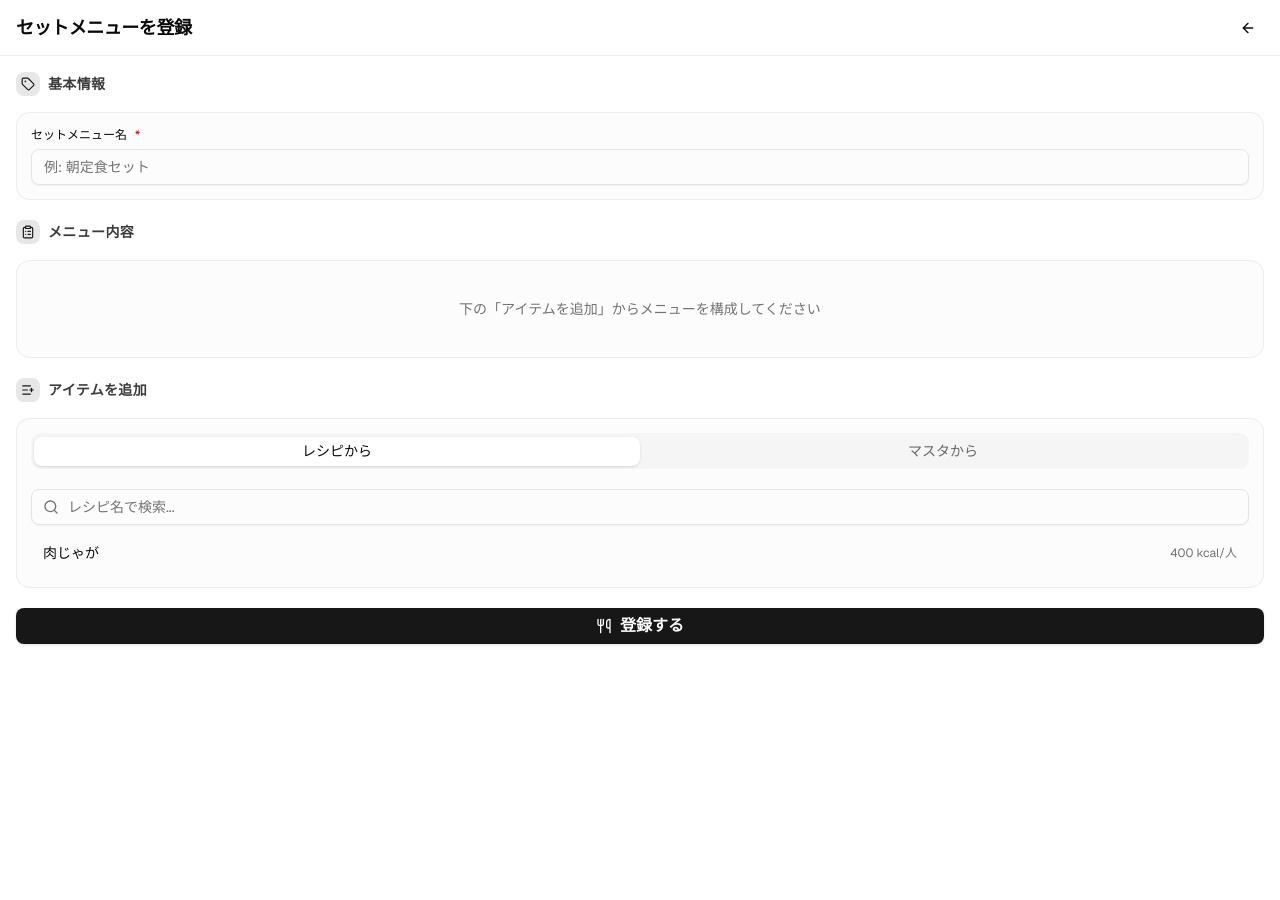
Test: SetMenuFormView (S-06a セットメニュー登録/編集) › 新規 › S-06a: 分量は 0.5 より減らせない(0.5 で「減らす」を押せない)
Step 1. Click the tab "マスタから" → (943, 451), box [640,436,1246,466]
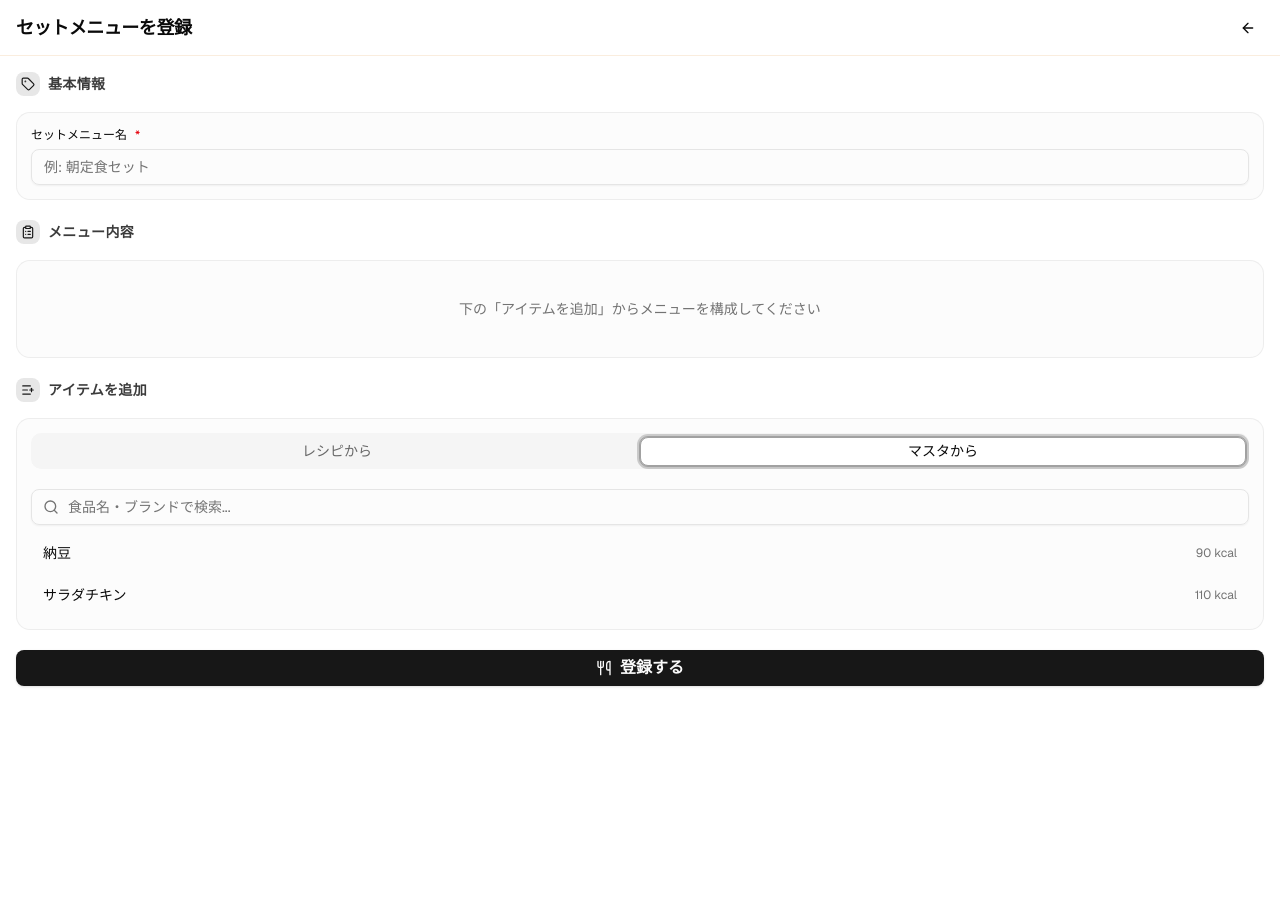
Step 2. Click the button "納豆 90 kcal" → (1217, 553), box [31,533,1249,573]
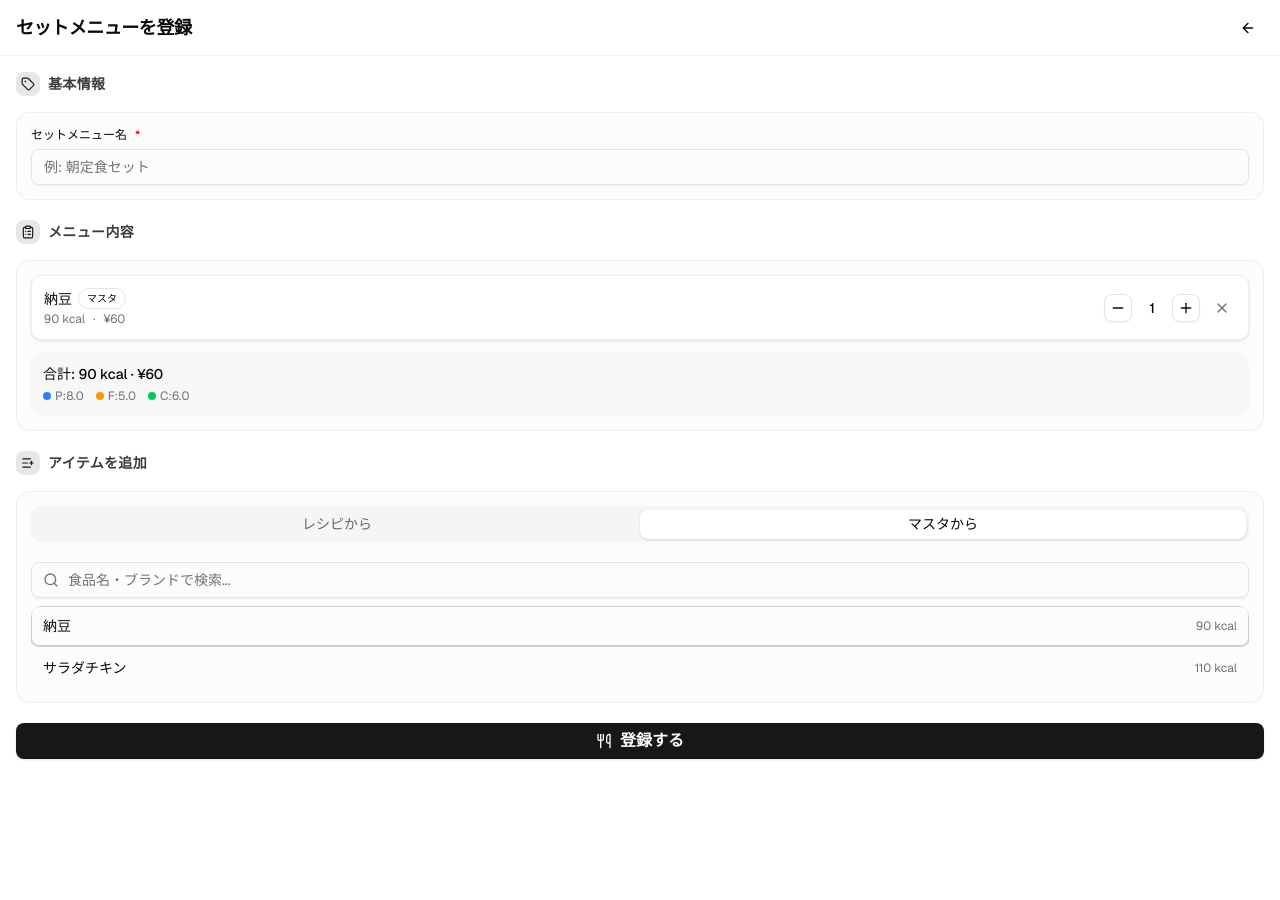
Step 3. Click the button named "「納豆」を減らす" → (1118, 308), box [1104,294,1132,322]
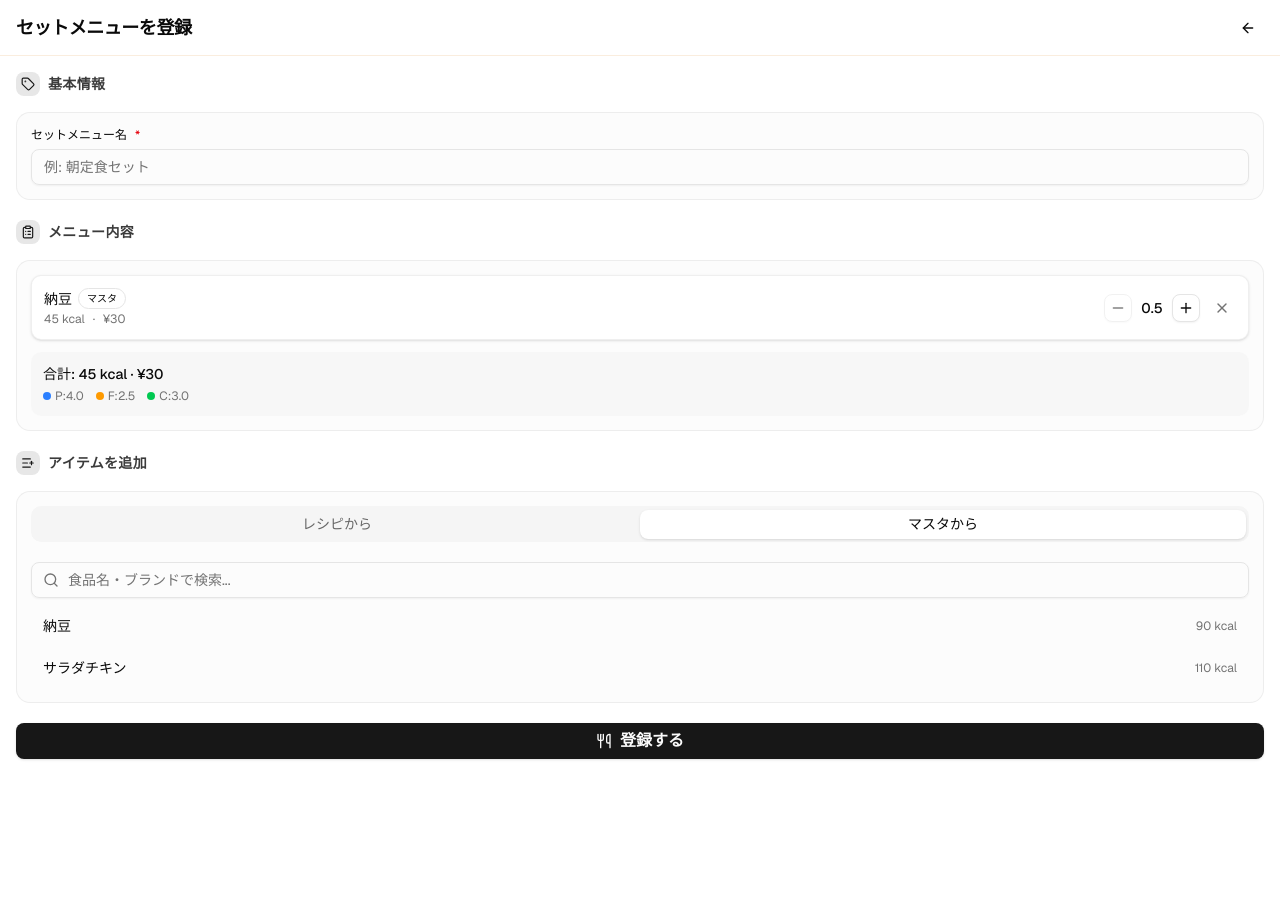
expect the text "合計: 45 kcal · ¥30" is shown: met, box [43,365,164,383]
